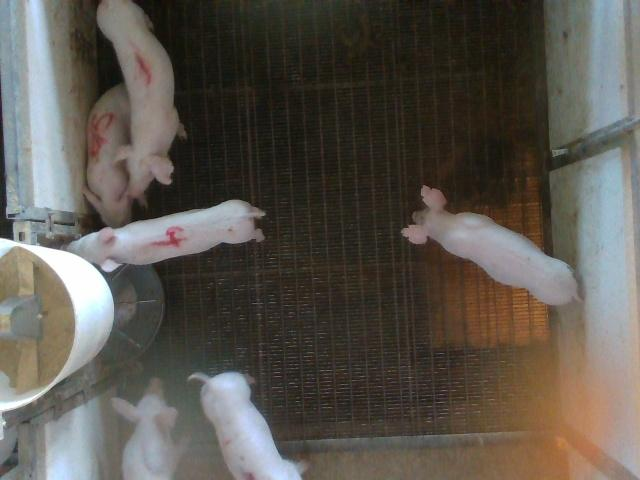pig-1: (98, 0, 186, 199)
pig-3: (189, 372, 301, 479)
pig-4: (66, 200, 265, 271)
pig-5: (84, 84, 132, 227)
